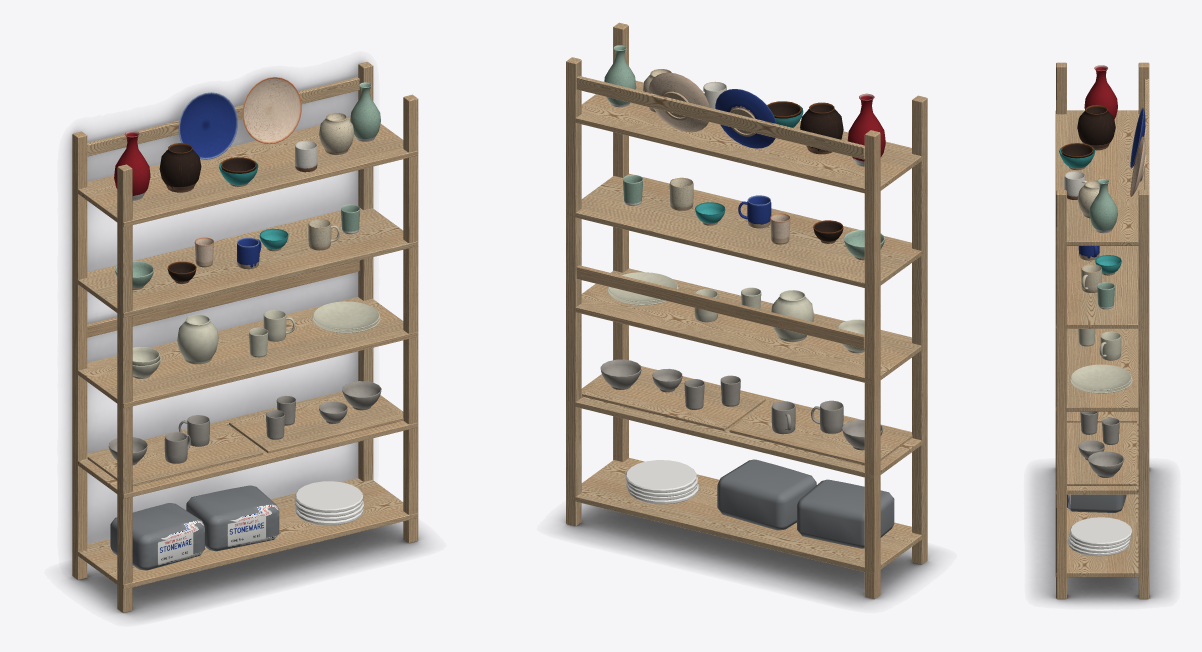
Rendered from pottery_shelf.glb.
3 renders of one model, left to right at view 1: azimuth 30°, elevation 25°; view 2: azimuth 150°, elevation 25°; view 3: azimuth 270°, elevation 25°, orthographic. The views are drawn at different scales.
Visible parts, largest first — view 1: pottery_shelf_LOD0, pottery_shelf_Shadow; view 2: pottery_shelf_LOD0, pottery_shelf_Shadow; view 3: pottery_shelf_LOD0, pottery_shelf_Shadow.
Boxes of the visible parts, <box> form: pottery_shelf_LOD0: <box>72,61,418,612</box>; pottery_shelf_Shadow: <box>62,60,425,619</box>; pottery_shelf_LOD0: <box>566,22,927,599</box>; pottery_shelf_Shadow: <box>558,504,935,605</box>; pottery_shelf_LOD0: <box>1055,62,1149,599</box>; pottery_shelf_Shadow: <box>1033,464,1170,604</box>.
Size of what is drawn, in the model's own units: 1.62 by 2.14 by 0.71.
6 materials, 6 textured.
